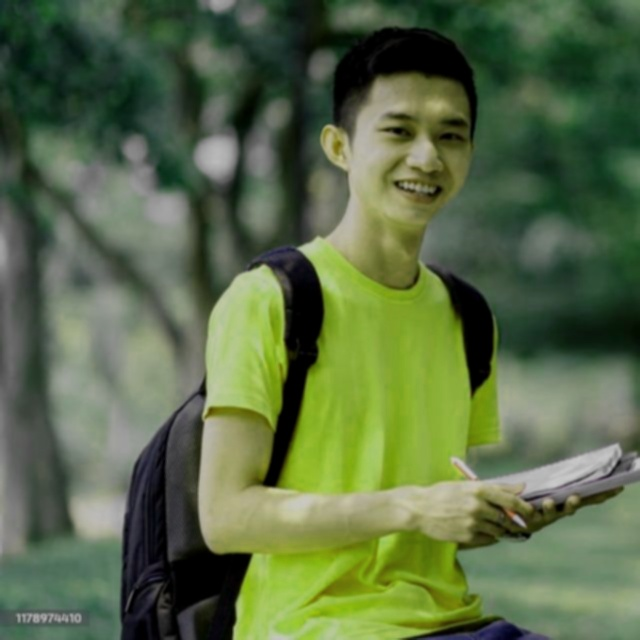Sin_Casco_Mascarrilla: (320, 26, 480, 232)
Sin_Chaleco: (217, 250, 498, 630)
